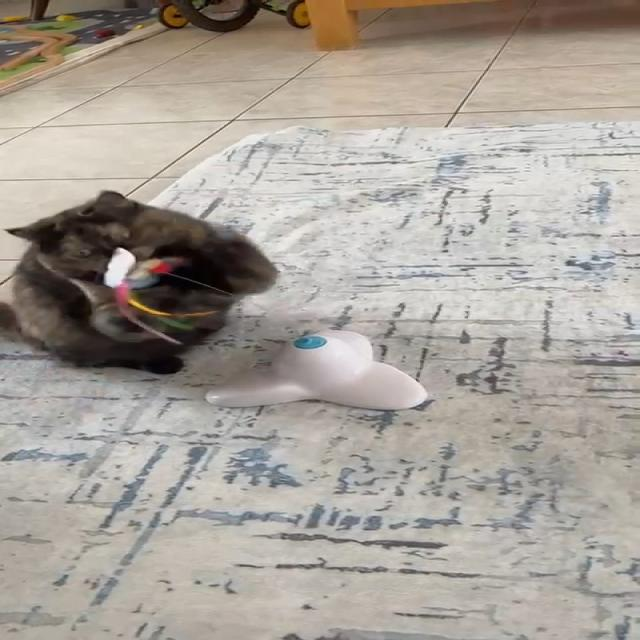authorized: (0, 189, 279, 375)
